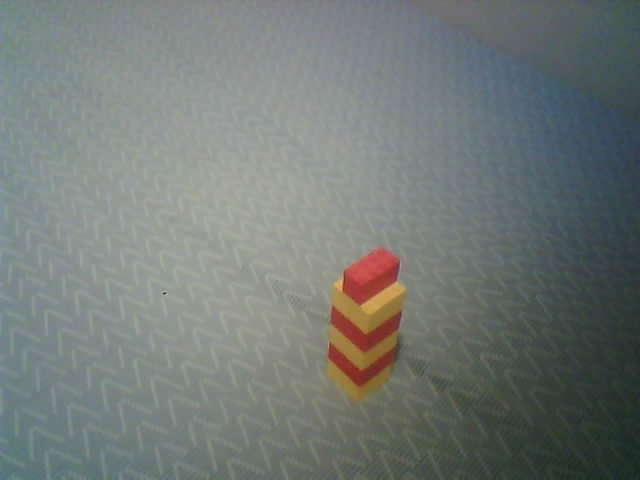lego: (325, 247, 407, 402)
